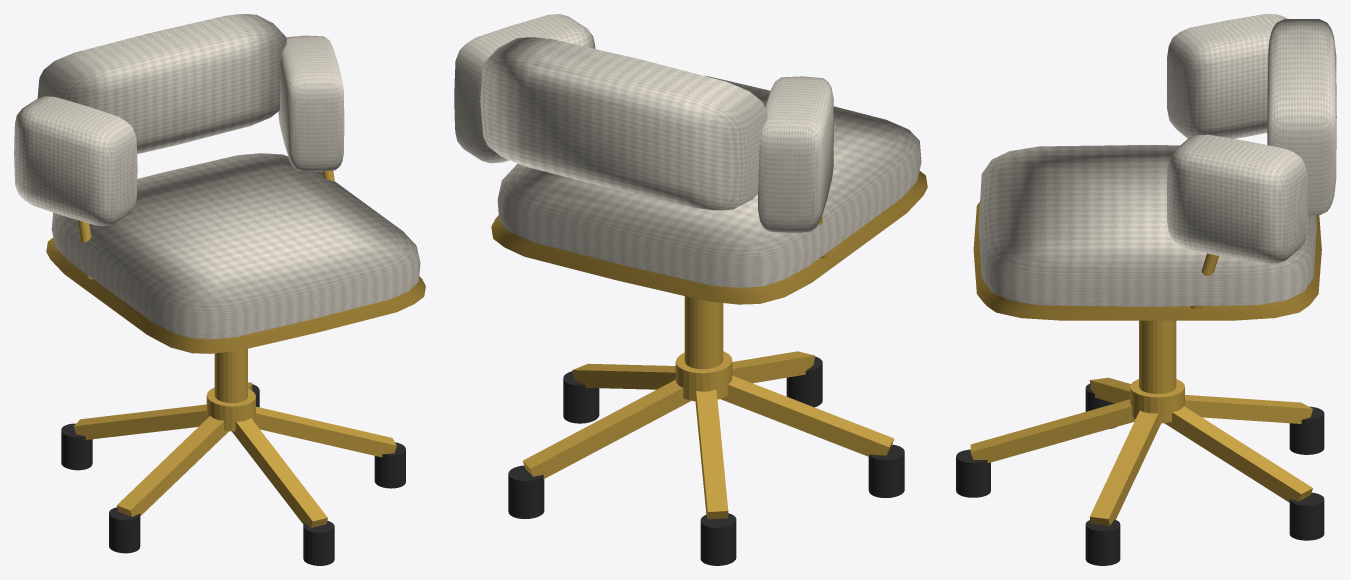
3 views of the same model, side by side, from view 1: azimuth 30°, elevation 25°; view 2: azimuth 150°, elevation 25°; view 3: azimuth 270°, elevation 25° (orthographic). The views are drawn at different scales.
Visible parts, largest first — view 1: 1 seat, 3 backrest, 4 backrest_left, 5 backrest_right, 2 seat_frame, 16 base_spoke_5, 12 base_spoke_1, 13 base_spoke_2, 15 base_spoke_4, 10 gas_lift, 17 wheel_1, 11 base_hub (+3 smaller); view 2: 3 backrest, 1 seat, 4 backrest_left, 2 seat_frame, 5 backrest_right, 14 base_spoke_3, 16 base_spoke_5, 15 base_spoke_4, 10 gas_lift, 13 base_spoke_2, 12 base_spoke_1, 11 base_hub (+5 smaller); view 3: 1 seat, 5 backrest_right, 4 backrest_left, 3 backrest, 2 seat_frame, 14 base_spoke_3, 12 base_spoke_1, 13 base_spoke_2, 10 gas_lift, 15 base_spoke_4, 19 wheel_3, 18 wheel_2 (+4 smaller).
Boxes of the visible parts, <box> form: 1 seat: <box>51,153,420,339</box>; 3 backrest: <box>37,14,286,154</box>; 4 backrest_left: <box>14,96,137,225</box>; 5 backrest_right: <box>278,35,344,171</box>; 2 seat_frame: <box>46,237,425,353</box>; 16 base_spoke_5: <box>117,416,228,516</box>; 12 base_spoke_1: <box>232,418,327,527</box>; 13 base_spoke_2: <box>255,406,396,457</box>; 15 base_spoke_4: <box>73,404,206,439</box>; 10 gas_lift: <box>214,349,247,402</box>; 17 wheel_1: <box>303,520,334,565</box>; 11 base_hub: <box>206,387,255,431</box>; 3 backrest: <box>480,37,767,210</box>; 1 seat: <box>497,76,921,287</box>; 4 backrest_left: <box>758,76,833,232</box>; 2 seat_frame: <box>491,171,927,304</box>; 5 backrest_right: <box>454,14,595,163</box>; 14 base_spoke_3: <box>523,379,691,478</box>; 16 base_spoke_5: <box>720,375,894,456</box>; 15 base_spoke_4: <box>695,389,728,519</box>; 10 gas_lift: <box>684,296,723,369</box>; 13 base_spoke_2: <box>572,363,675,389</box>; 12 base_spoke_1: <box>732,351,814,383</box>; 11 base_hub: <box>675,351,732,401</box>; 1 seat: <box>978,145,1316,306</box>; 5 backrest_right: <box>1167,134,1307,263</box>; 4 backrest_left: <box>1167,14,1286,138</box>; 3 backrest: <box>1267,19,1336,215</box>; 2 seat_frame: <box>973,202,1321,320</box>; 14 base_spoke_3: <box>1164,406,1312,502</box>; 12 base_spoke_1: <box>970,399,1135,463</box>; 13 base_spoke_2: <box>1090,410,1160,525</box>; 10 gas_lift: <box>1139,320,1176,393</box>; 15 base_spoke_4: <box>1185,395,1312,423</box>; 19 wheel_3: <box>1289,492,1324,540</box>; 18 wheel_2: <box>1085,519,1120,565</box>.
Size of the model in its own units: 0.81 by 1 by 0.81.
Materials: 4 (1 with a texture image).
